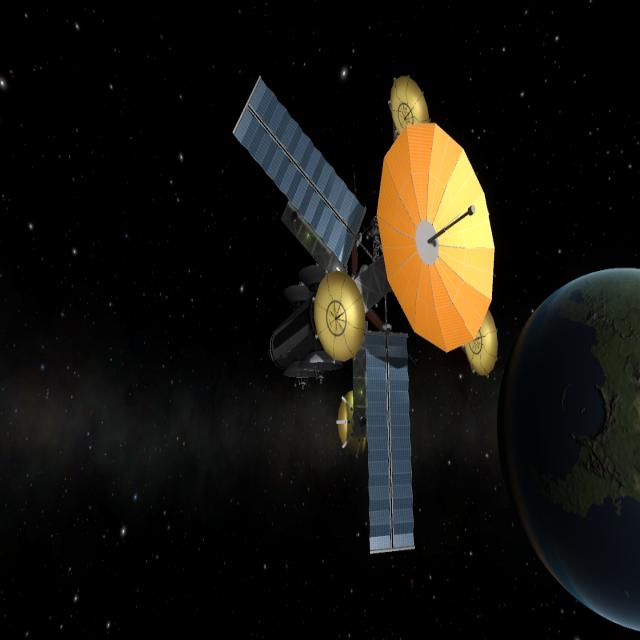satellite: (216, 36, 500, 578)
